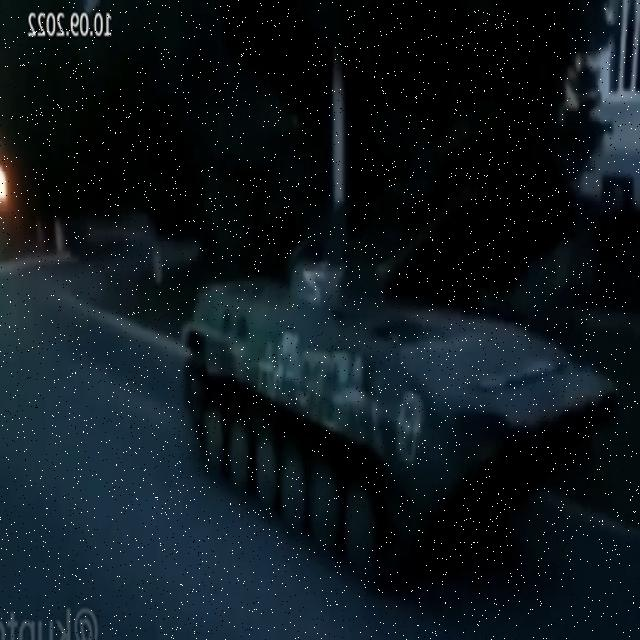APC-IFV: (178, 225, 622, 591)
